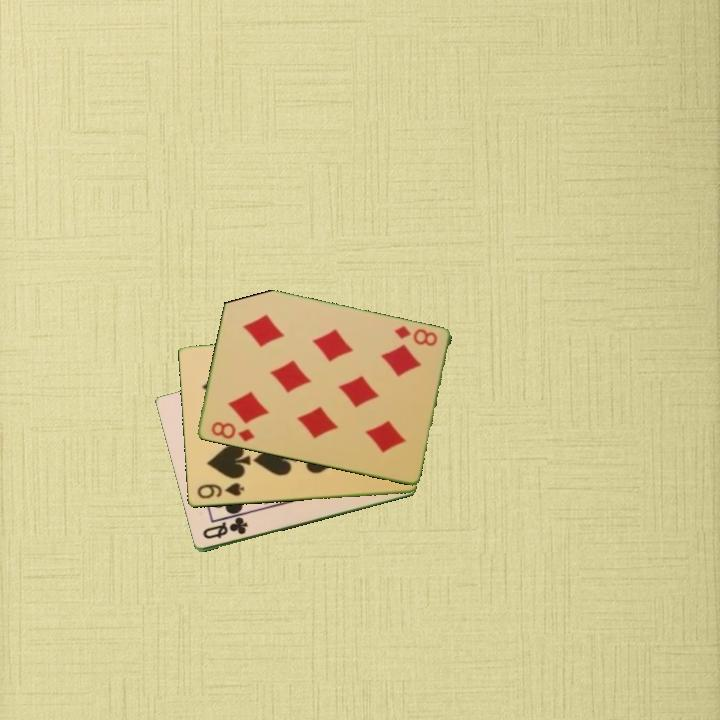8d: (207, 418, 257, 445), (391, 322, 440, 349)
9s: (193, 479, 247, 502)
Qc: (199, 514, 251, 542)
